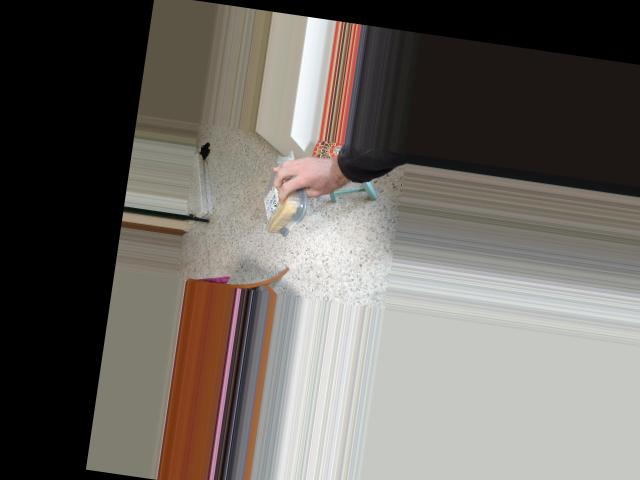cheese: (260, 159, 306, 237)
